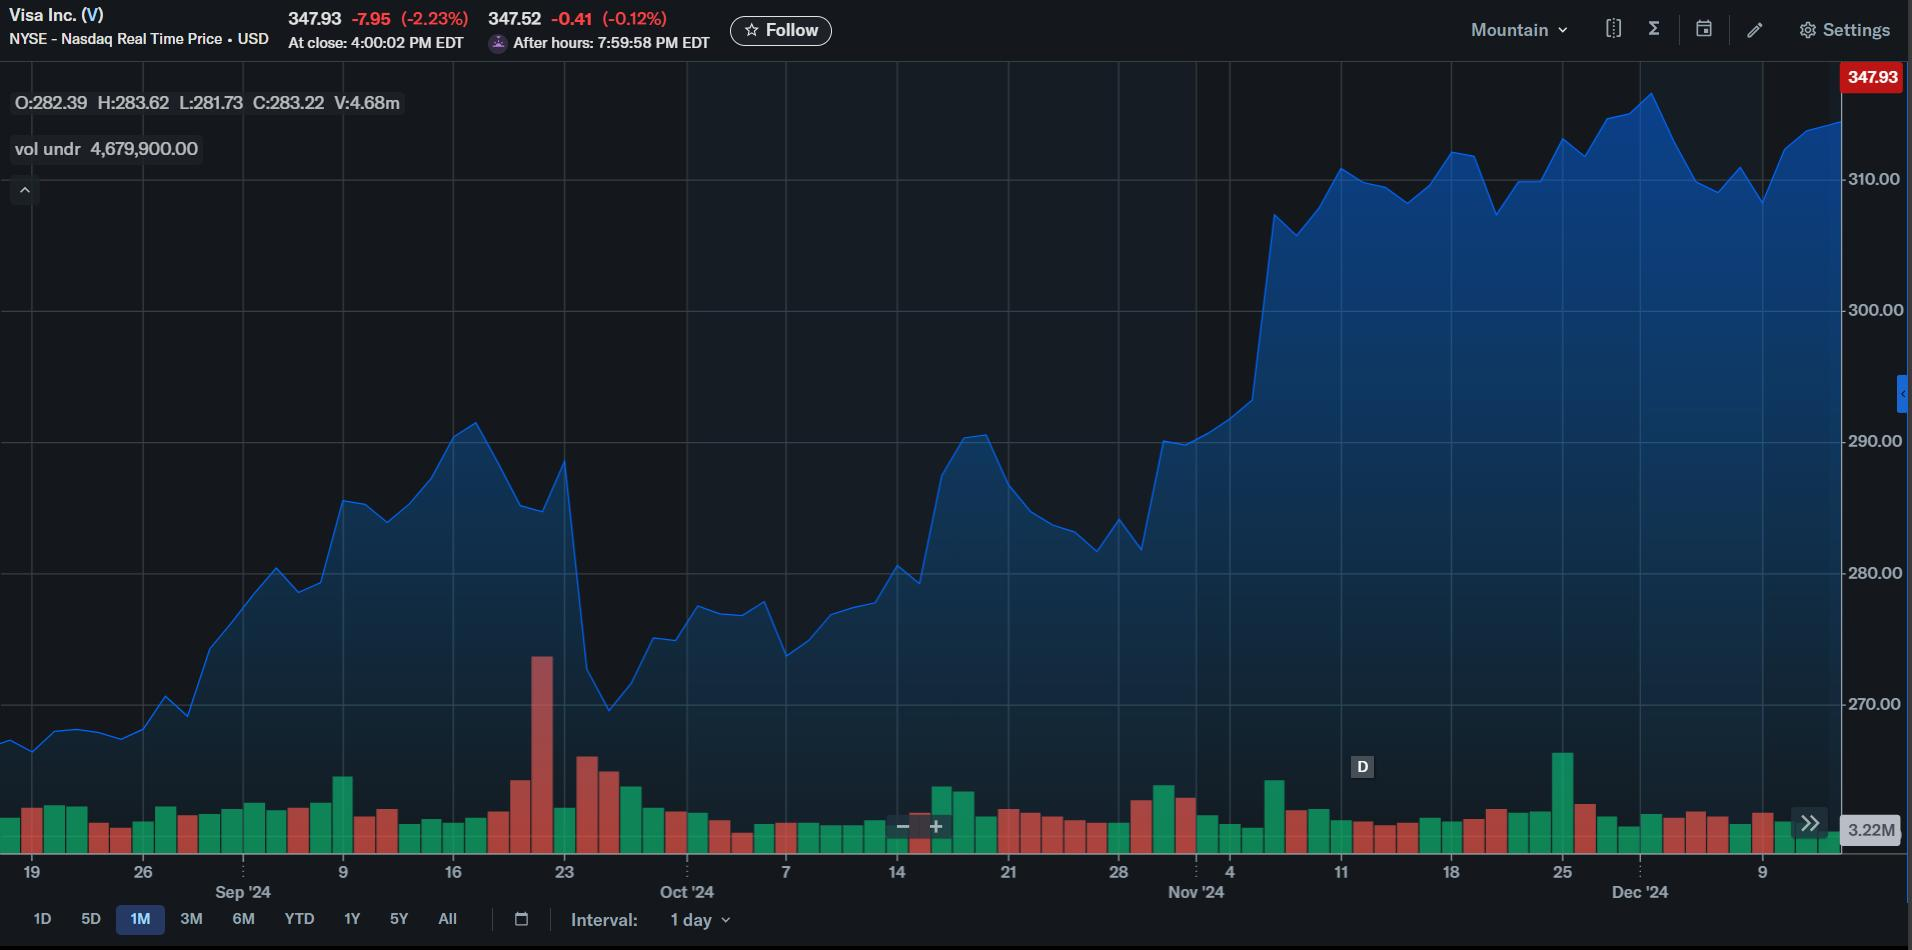Downtrend: (562, 418, 627, 734)
Uptrend: (188, 387, 480, 713), (1134, 144, 1289, 607), (784, 424, 973, 704)
